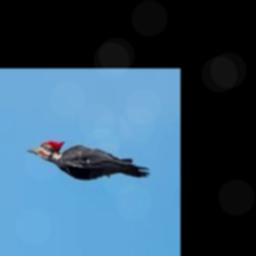Woodpecker: (28, 139, 151, 180)
